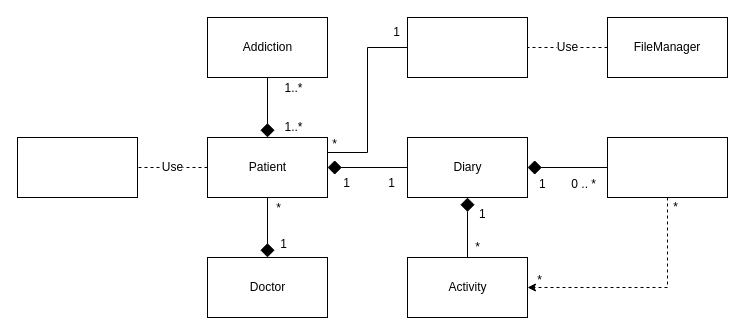
Image size: 745x335. Some labels were removed from this diagram. Each missing label, with the centre of its shape:
"Alarm" belongs at point 77,167.
"Controller" belongs at point 467,47.
"Entry" belongs at point 667,167.
